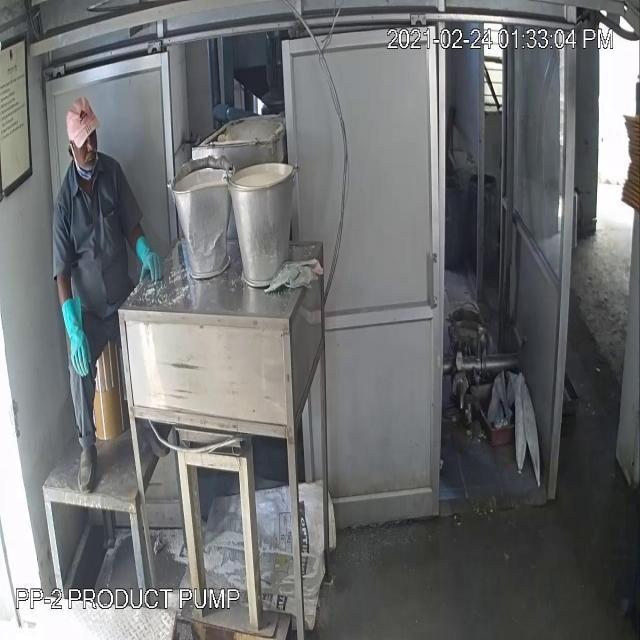no hat: (57, 88, 106, 156)
